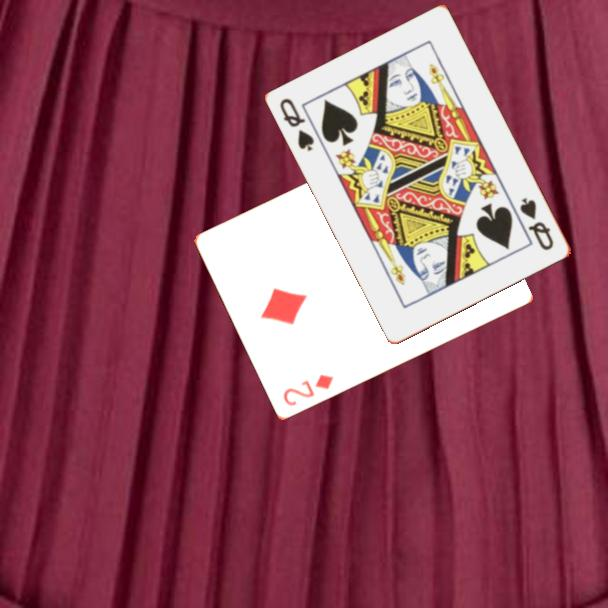d02: (279, 371, 336, 410)
s12: (276, 95, 318, 154), (517, 194, 557, 254)
